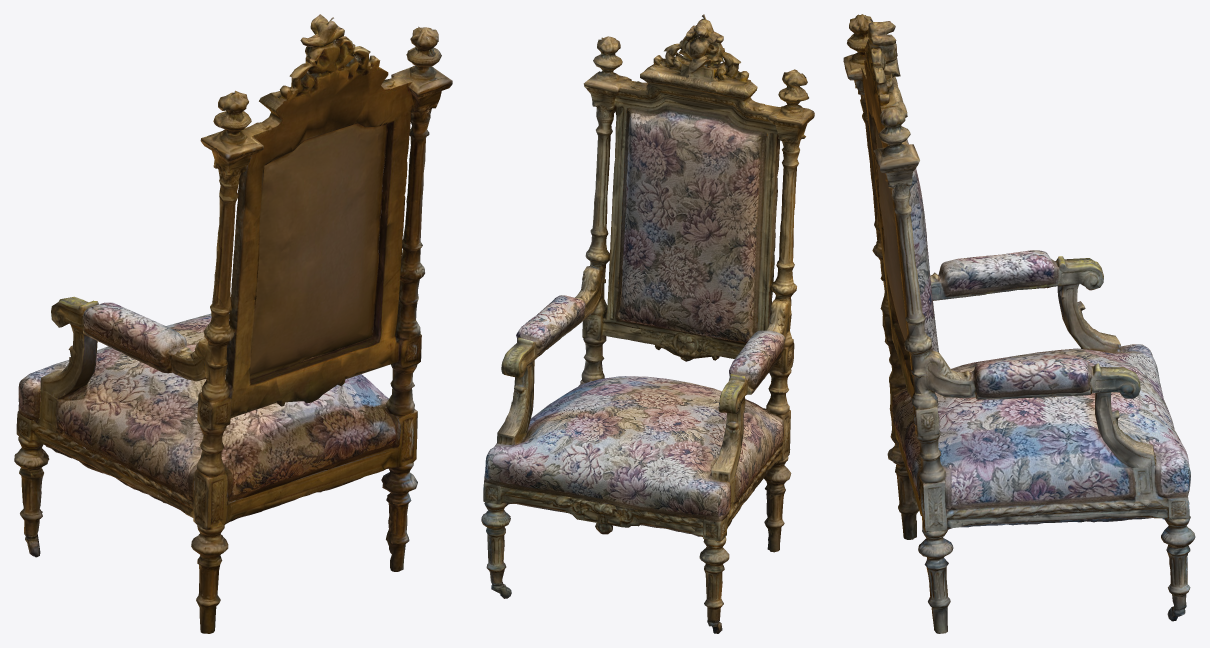
The model's file is reading-chair.glb.
The picture shows the model from 3 angles, left to right: view 1: azimuth 30°, elevation 25°; view 2: azimuth 150°, elevation 25°; view 3: azimuth 270°, elevation 25°; orthographic projection. The views are drawn at different scales.
Parts seen in each view (by area): view 1: reading-chair|9, reading-chair|10; view 2: reading-chair|10, reading-chair|9; view 3: reading-chair|10, reading-chair|9.
Part boxes in pixels (x1,y1,x2,y2): reading-chair|9: (14,14,452,633); reading-chair|10: (18,123,400,521); reading-chair|10: (484,104,785,536); reading-chair|9: (481,14,814,633); reading-chair|10: (875,125,1190,529); reading-chair|9: (843,14,1195,633).
Size of the model in its own units: 0.3191 by 0.62 by 0.3492.
Materials: 2 (2 with a texture image).
